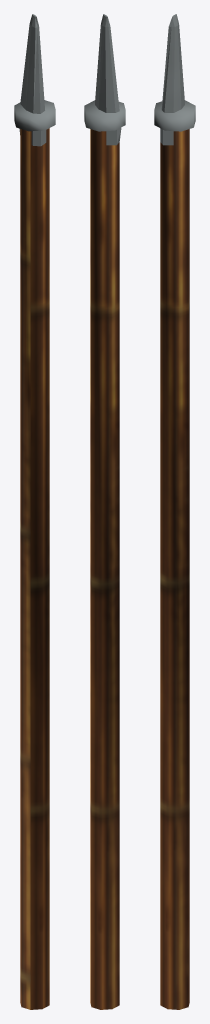
File: inca_spear_2.dae
3 renders of one model, left to right at view 1: azimuth 30°, elevation 25°; view 2: azimuth 210°, elevation 25°; view 3: azimuth 330°, elevation 25°, orthographic.
Parts seen in each view (by area): view 1: spear2; view 2: spear2; view 3: spear2.
Boxes of the visible parts, box(x1,y1,x2,y2) form: spear2: box(14, 14, 55, 1009); spear2: box(84, 14, 125, 1009); spear2: box(154, 14, 195, 1009).
Size of the model in its own units: 0.1652 by 0.1557 by 4.13.
